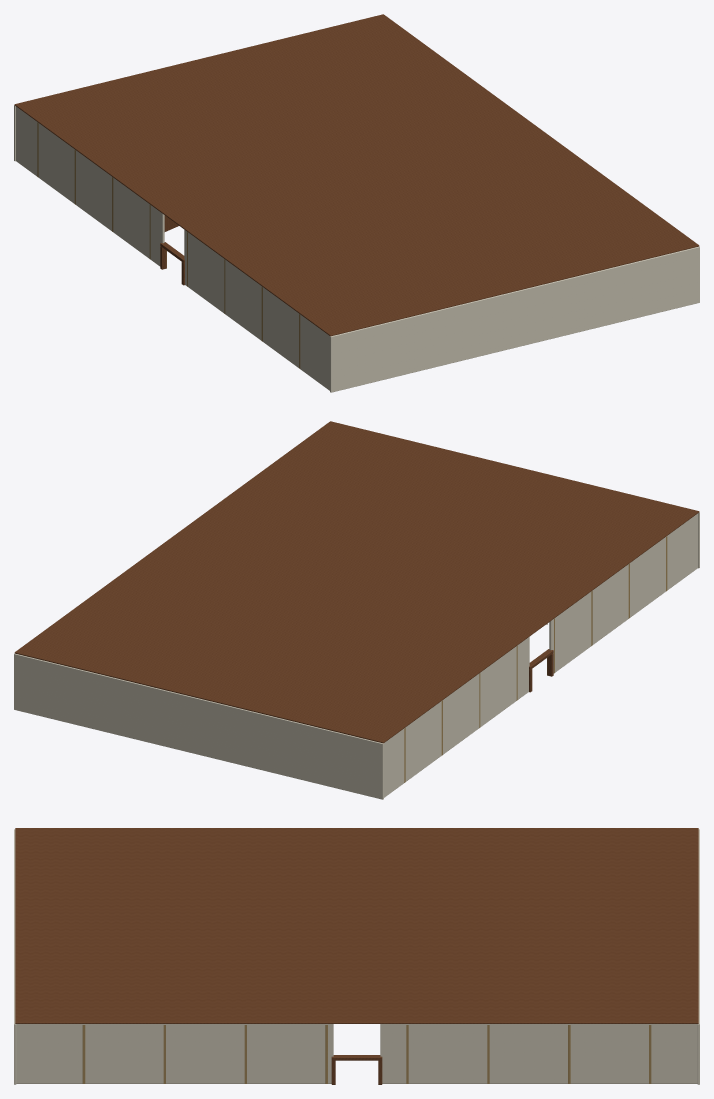
File: SOL_D11_directory_10_source001.glb
3 renders of one model, top to bottom at view 1: azimuth 30°, elevation 25°; view 2: azimuth 150°, elevation 25°; view 3: azimuth 270°, elevation 25°, orthographic. The views are drawn at different scales.
Parts seen in each view (by area): view 1: E_ceiling, E_outer_north, E_outer_west0, E_outer_west1; view 2: E_ceiling, E_outer_south, E_outer_west0, E_outer_west1; view 3: E_ceiling, E_outer_east0, E_outer_east1, E_outer_south, E_outer_north.
Part boxes in pixels (x1,y1,x2,y2): E_ceiling: (14,14,699,336); E_outer_north: (330,246,699,392); E_outer_west0: (16,106,164,266); E_outer_west1: (184,230,329,390); E_ceiling: (14,421,699,743); E_outer_south: (14,653,383,799); E_outer_west0: (384,637,529,797); E_outer_west1: (549,513,697,673); E_ceiling: (15,828,698,1023); E_outer_east0: (380,1024,697,1083); E_outer_east1: (16,1024,333,1083); E_outer_south: (697,829,699,1084); E_outer_north: (14,829,16,1084).
Size of the model in its own units: 45.75 by 6.74 by 67.84.
Materials: 13 (13 with a texture image).
